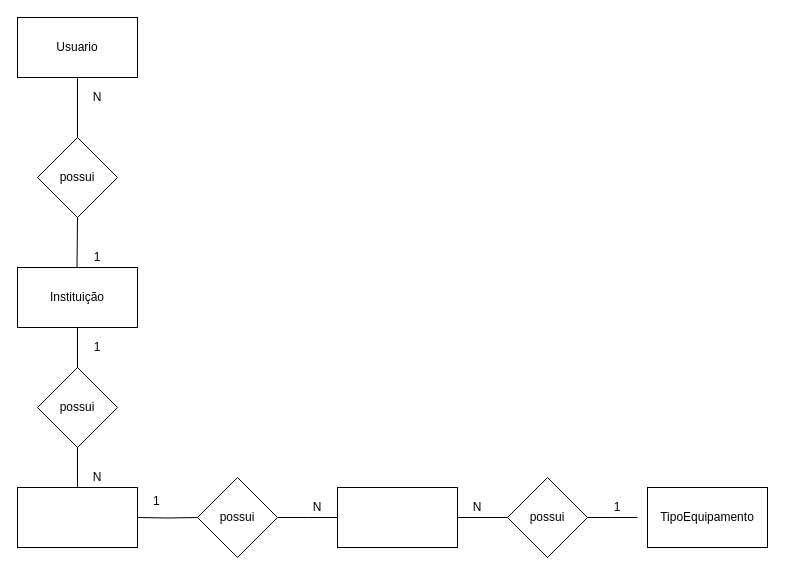
Some shapes in this 785 by 575 pixel diagram are drawn without their labels. Each missing label, with the centre of its shape:
"Equipamentos" goes at point (397, 517).
"Sala" goes at point (77, 517).
